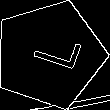L_W: (19, 32, 80, 78)
